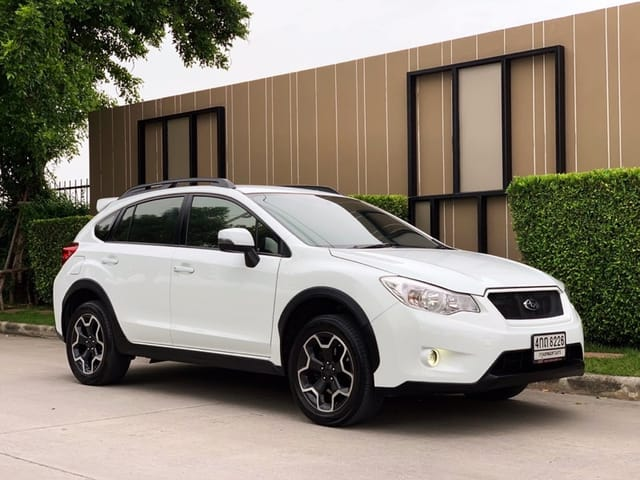pickup: (52, 177, 587, 426)
